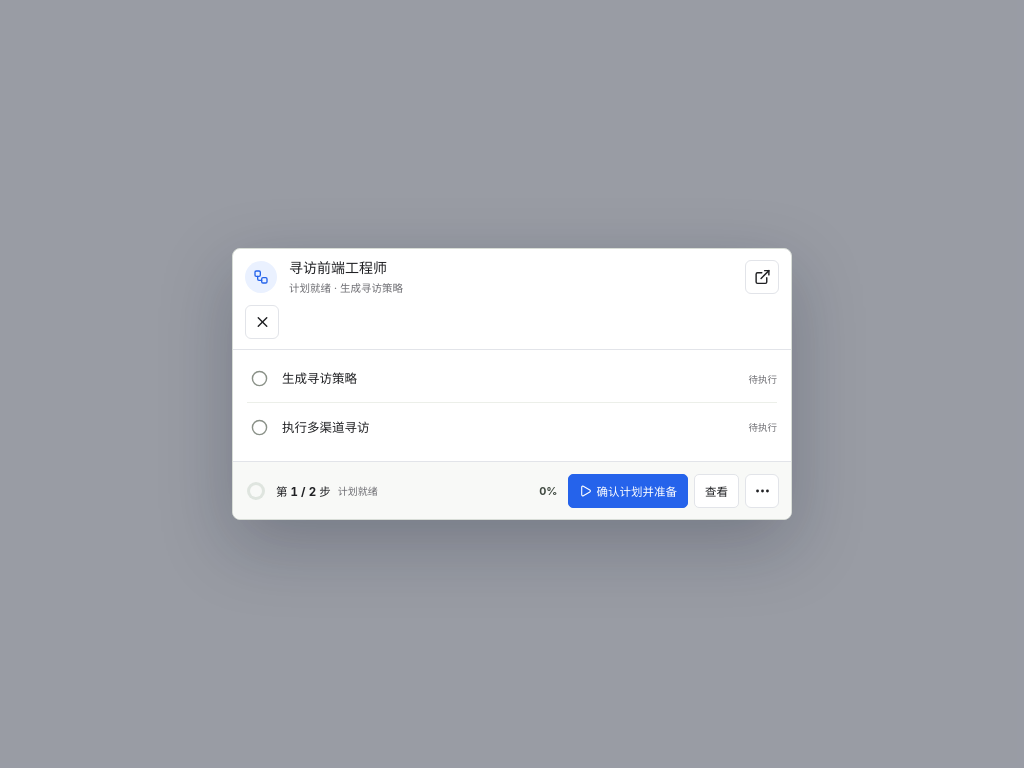
it: 轻量工作流浮层 › 确认计划沿用 plan_ref，并在成功后刷新
Click the button "确认计划并准备": [628, 491] box [568, 474, 688, 508]
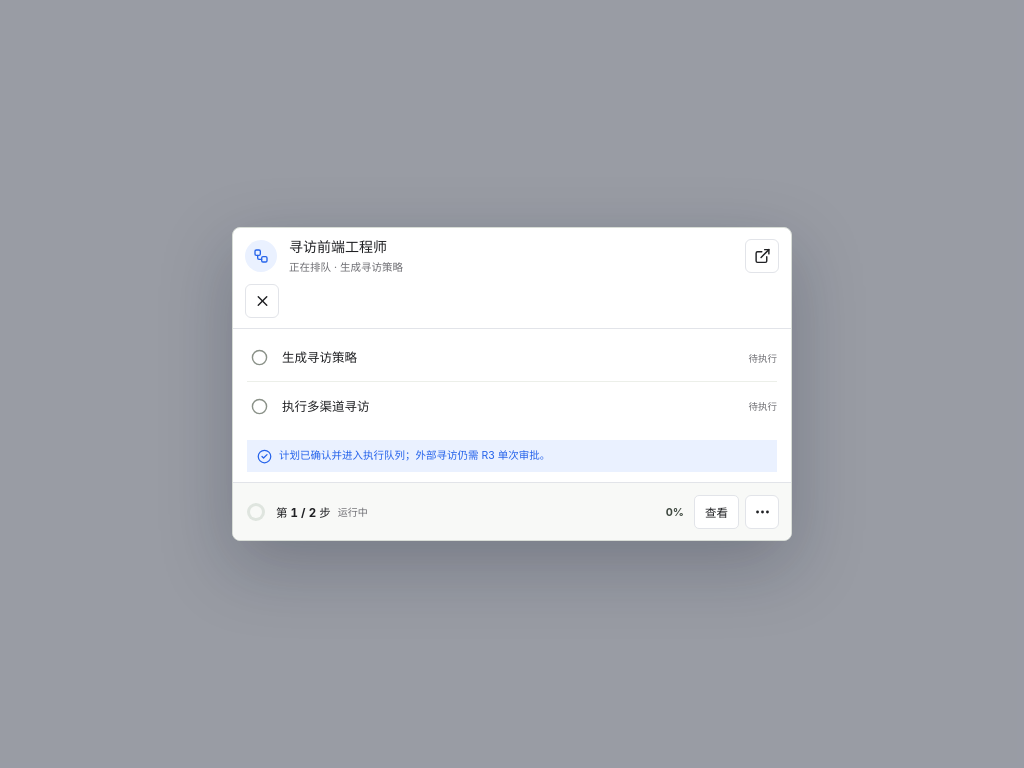
Expected: the button "确认计划并准备" is gone
